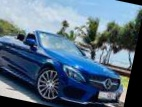car: (0, 21, 132, 107)
